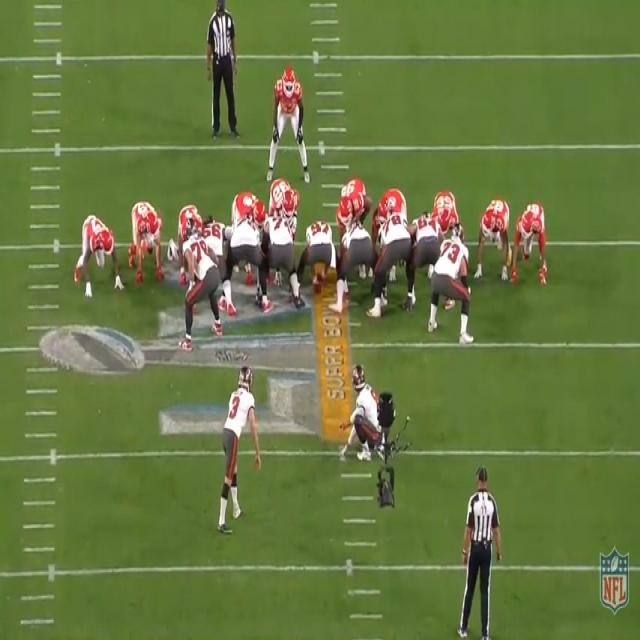football: (312, 268, 323, 298)
players: (211, 349, 267, 536), (259, 41, 310, 187), (182, 230, 221, 364), (434, 228, 475, 355), (346, 362, 396, 464), (408, 200, 451, 317), (121, 187, 168, 286), (293, 217, 348, 300), (72, 212, 120, 304), (266, 204, 306, 313), (373, 206, 406, 328), (231, 211, 266, 319), (330, 222, 369, 314), (478, 188, 517, 279), (517, 193, 553, 280), (200, 212, 227, 308), (260, 171, 300, 233), (171, 193, 202, 270), (331, 172, 368, 236), (219, 187, 267, 229), (432, 184, 463, 249), (372, 177, 409, 226)
